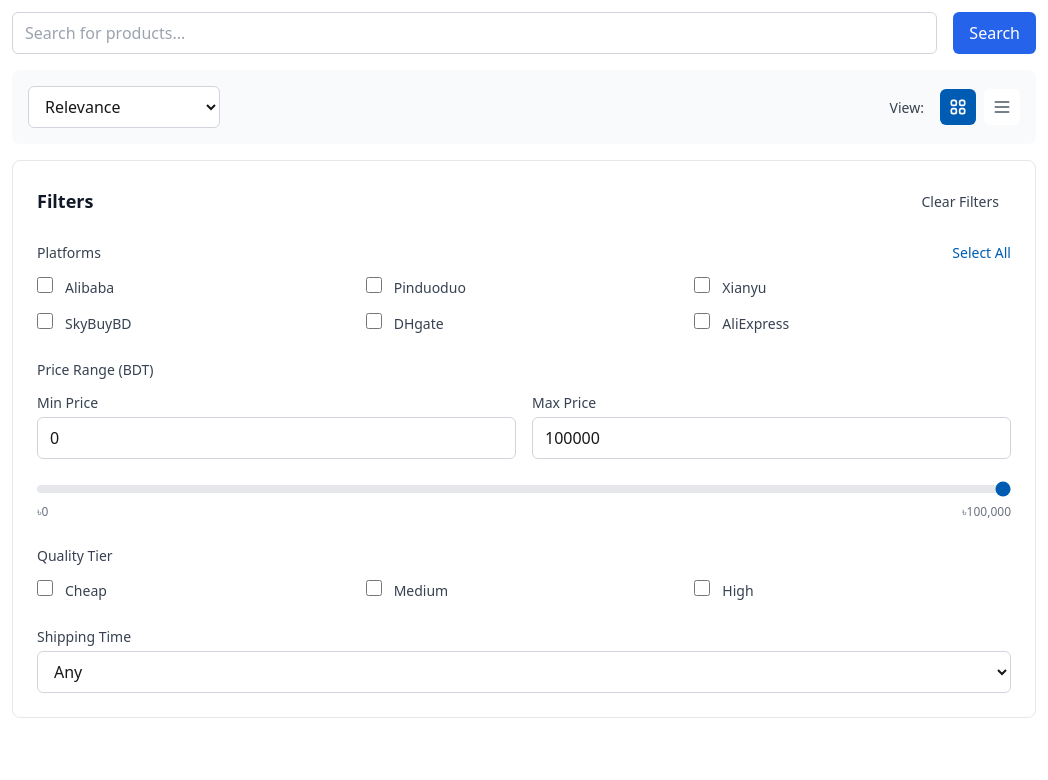
Test: ProductSearchInterface › Platform Filters › should select all platforms when Select All is clicked
The image size is (1048, 780).
Click the button "Select All" at x=982, y=252, box [952, 242, 1011, 263]
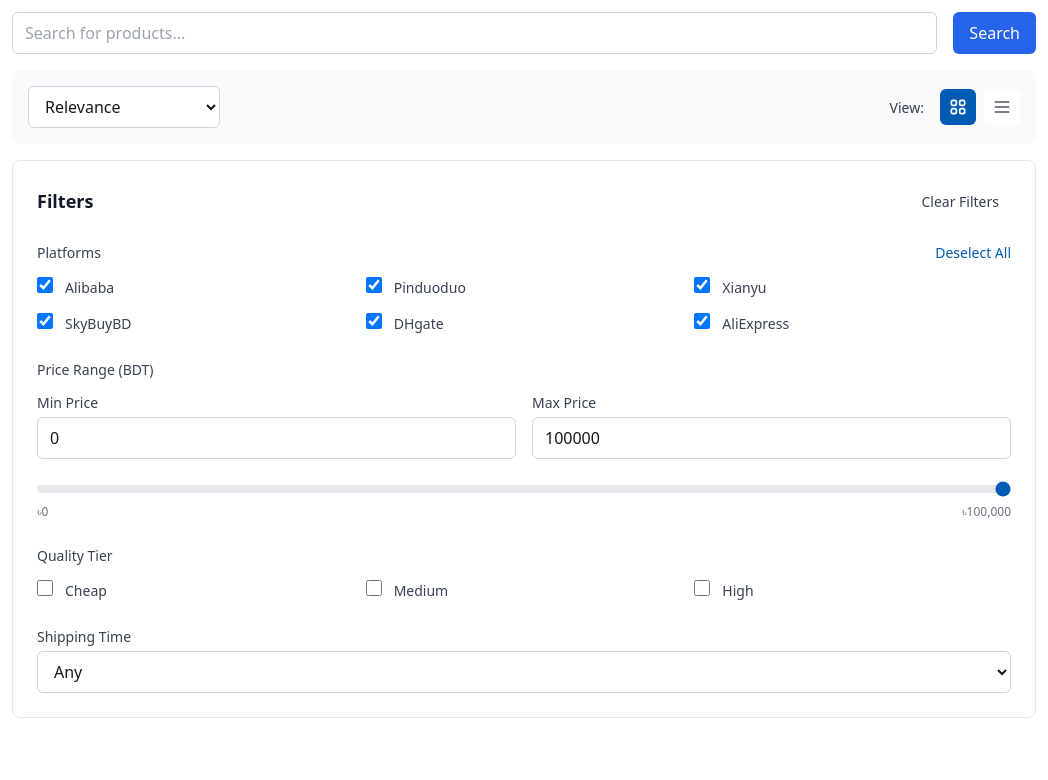
Result: the checkbox labelled "Alibaba" is checked at [37, 277, 53, 293]
Result: the checkbox labelled "Pinduoduo" is checked at [366, 277, 382, 293]
Result: the checkbox labelled "Xianyu" is checked at [694, 277, 710, 293]
